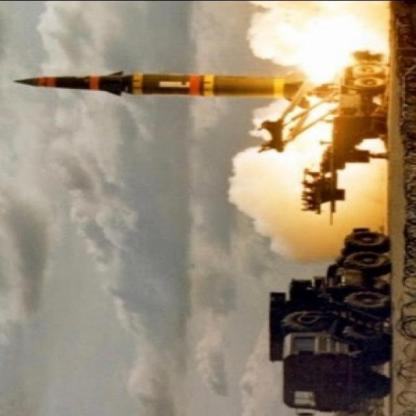MIL_TBM: (14, 65, 312, 101)
